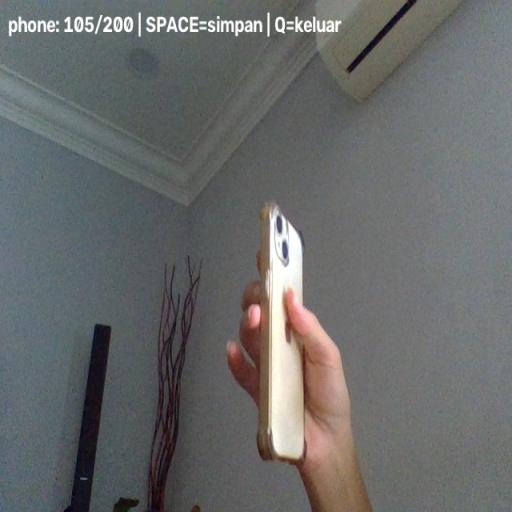Phone: (258, 201, 307, 465)
